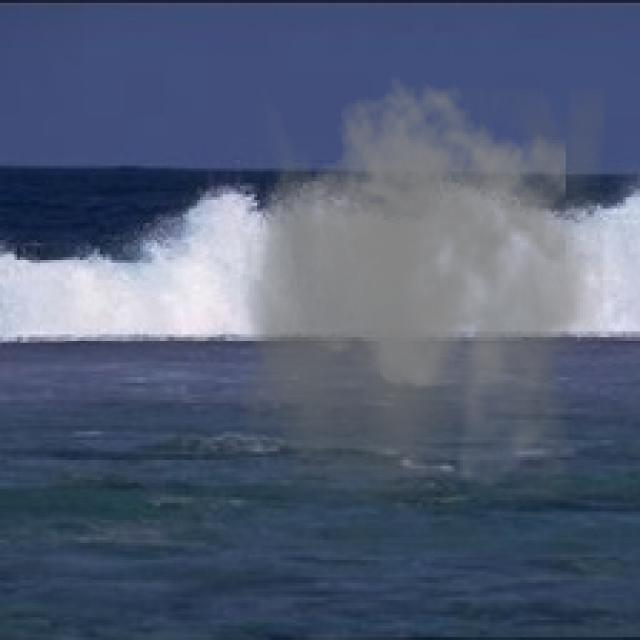smoke: (240, 74, 606, 500)
